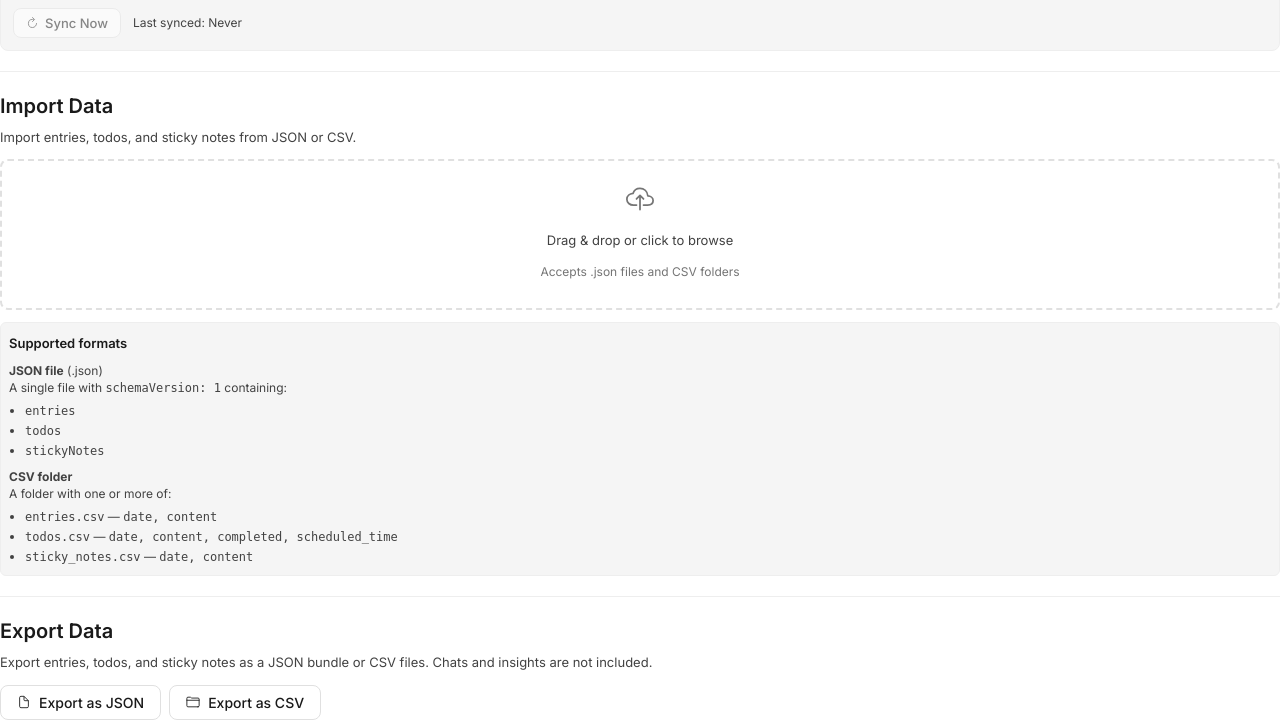
Test: DataManagementSection Import Wizard › renders export results after successful execution
Click the button "Export as JSON".
click(81, 702)  # box left=0, top=685, right=161, bottom=719
(page scrolled)
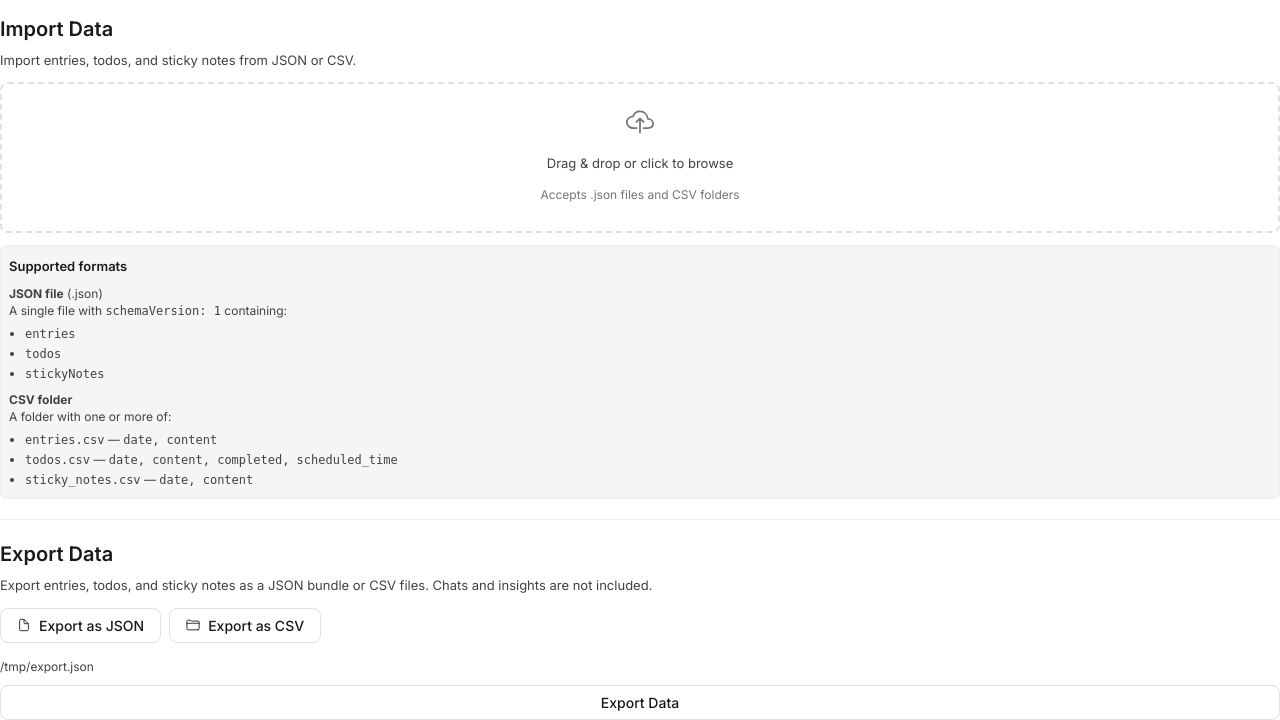
Result: the text "/tmp/export.json" is shown at left=0, top=659, right=94, bottom=674
Click the button "Export Data".
click(640, 702)  # box left=0, top=685, right=1279, bottom=719
(page scrolled)
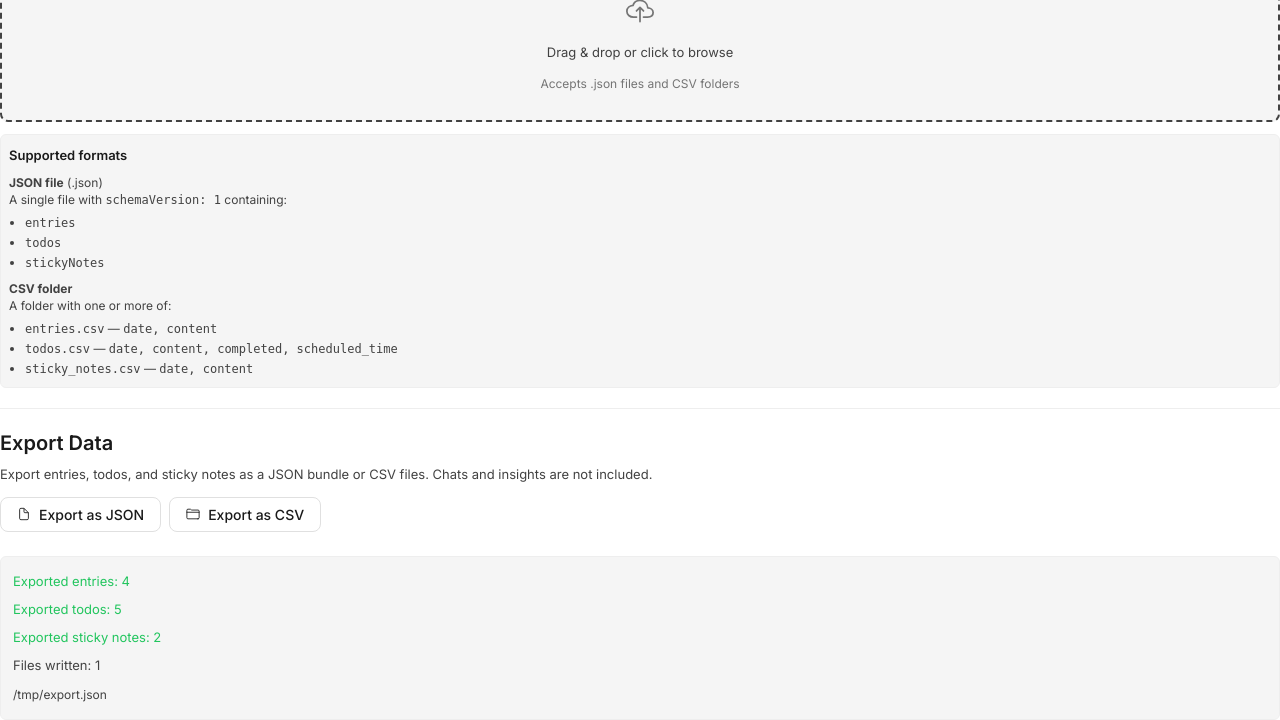
Result: the element with test id "export-result-panel" is shown at left=0, top=556, right=1279, bottom=719
Result: the text "Exported entries: 4" is shown at left=13, top=573, right=130, bottom=589
Result: the text "Exported todos: 5" is shown at left=13, top=601, right=122, bottom=617
